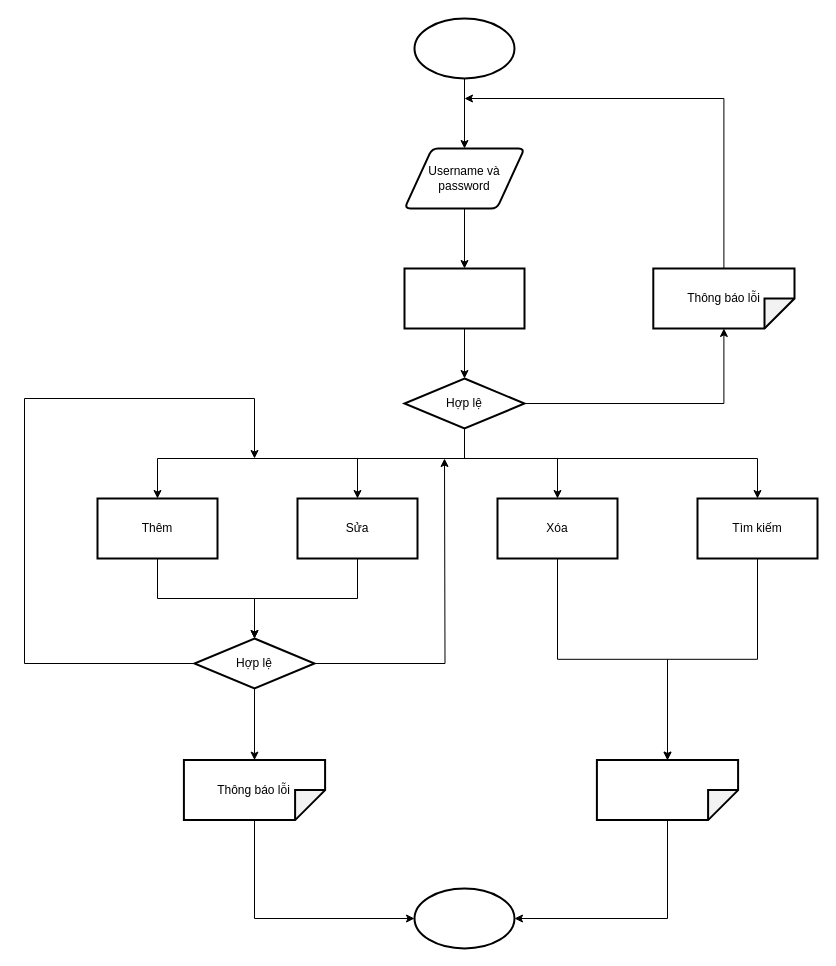
Image size: 836x966. Some labels were removed from this diagram. The shapes that lost their labels are listed below. From the top down, each one's centre as x and y in pixels, then its label:
At (x=464, y=48): "Bắt đầu".
At (x=464, y=298): "Kiểm tra tính hợp lệ của tài khoản".
At (x=667, y=790): "Kết quả".
At (x=464, y=918): "Kết thúc".
